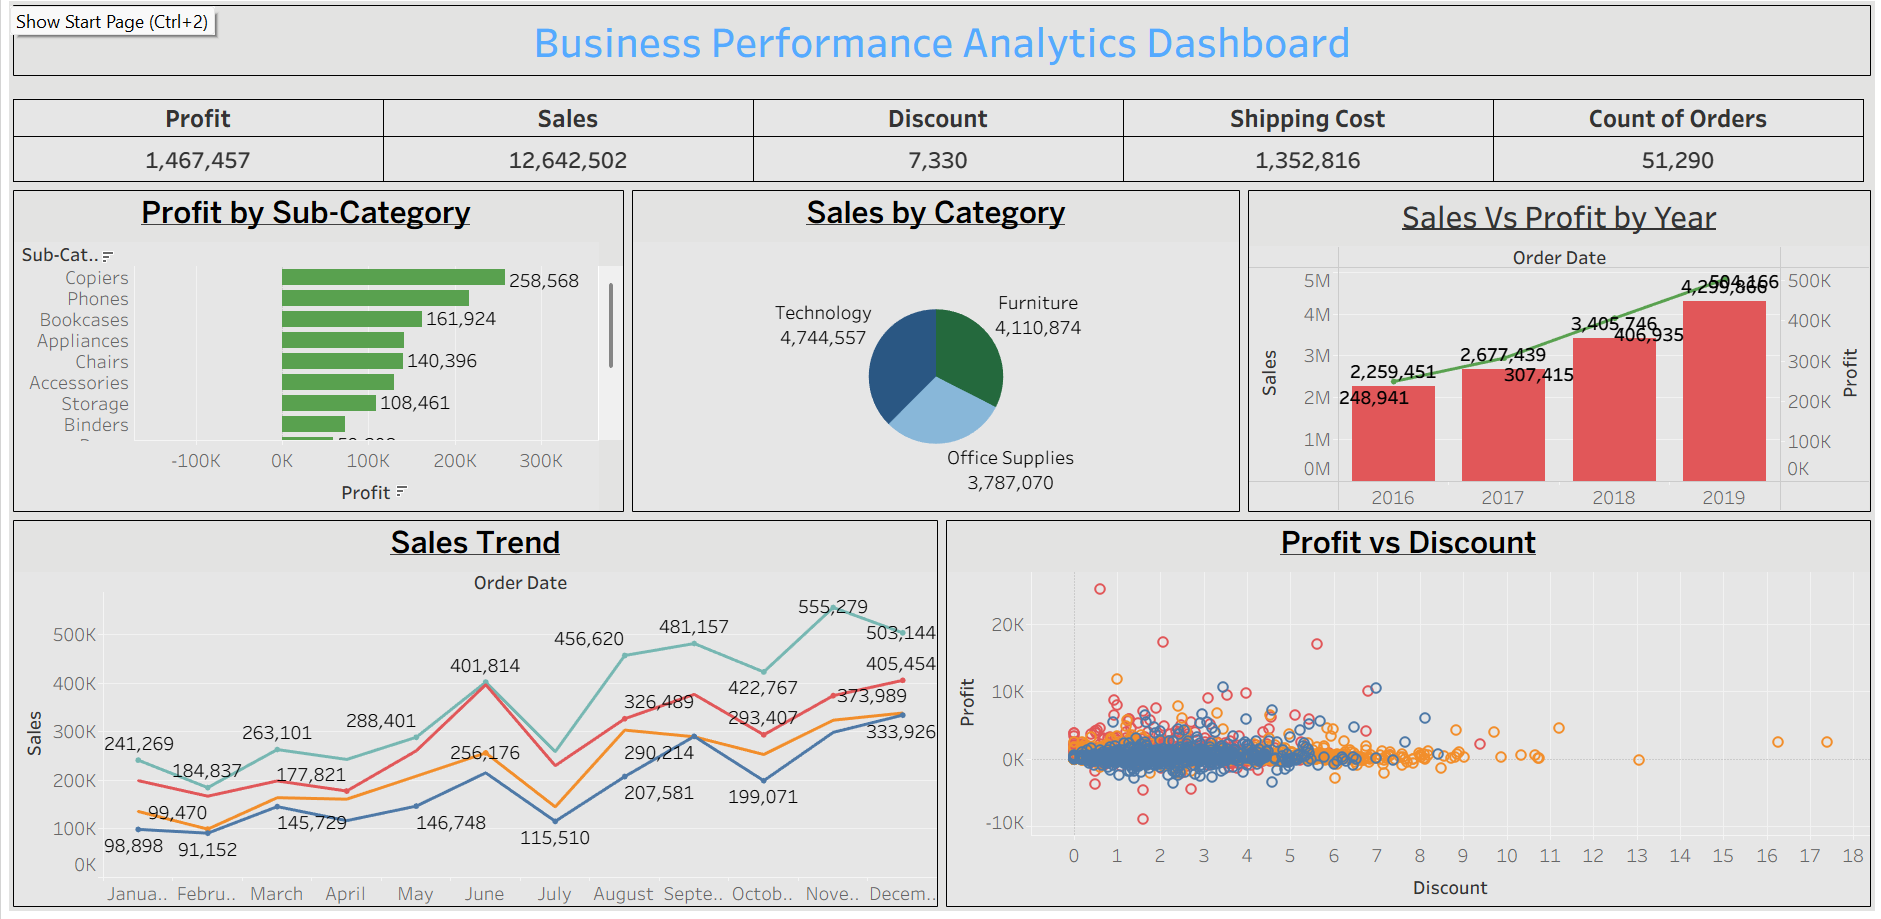

Layout of this report page (visuals, bound fields, positions):
{"tool":"tableau","page":{"name":"Business Performance Analytics Dashboard","canvas":[1000,1000],"units":"permille","ordinal":0},"visuals":[{"type":"text","box":[4.2,8.6,991.5,85.3]},{"type":"worksheet","title":"KPI","mark":"Automatic","box":[4.2,94,991.5,114.5]},{"type":"worksheet","title":"H Chart","mark":"Automatic","rows":["Sub-Category"],"cols":["Profit"],"box":[4.2,208.4,328.9,356.4]},{"type":"worksheet","title":"Bar Chart","mark":"Pie","box":[333.2,208.4,327.3,356.4]},{"type":"worksheet","title":"Dual Axis Chart","mark":"Automatic","rows":["Sales","Profit"],"cols":["Order Date"],"box":[660.5,208.4,335.3,356.4]},{"type":"worksheet","title":"Line Chart","mark":"Automatic","rows":["Sales"],"cols":["Order Date"],"box":[4.2,564.8,495.8,426.6]},{"type":"worksheet","title":"Scatter Plot","mark":"Automatic","rows":["Profit"],"cols":["Discount"],"box":[500,564.8,495.8,426.6]}]}

Visuals, with their boxes on the dashboard's canvas, which has no fixed pixel size, in thousandths of its width and height (x1, y1, x2, y2). These are canvas units, not pixel positions in the 1881x919 screenshot, which may show the page scaled, cropped or inside an application window:
text: <region>4, 9, 996, 94</region>
"KPI" worksheet: <region>4, 94, 996, 208</region>
"H Chart" worksheet: <region>4, 208, 333, 565</region>
"Bar Chart" worksheet (Pie marks): <region>333, 208, 660, 565</region>
"Dual Axis Chart" worksheet: <region>660, 208, 996, 565</region>
"Line Chart" worksheet: <region>4, 565, 500, 991</region>
"Scatter Plot" worksheet: <region>500, 565, 996, 991</region>
